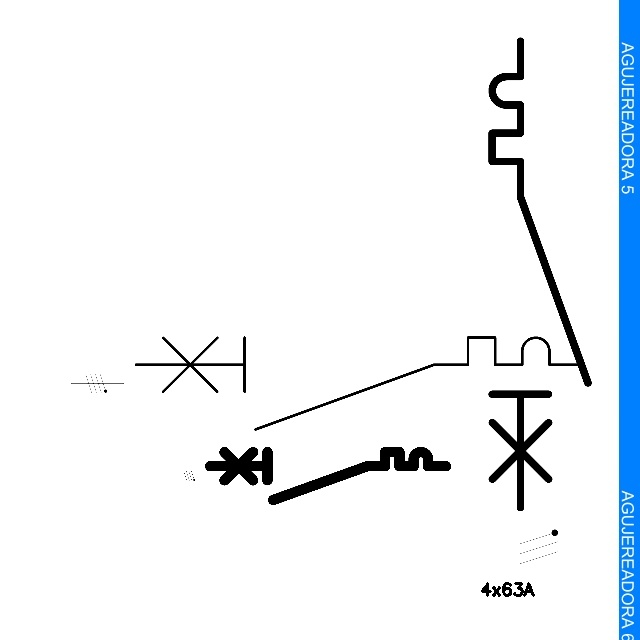interruptor_termomagnetico: (480, 29, 600, 520), (124, 326, 594, 441), (204, 446, 452, 506)
